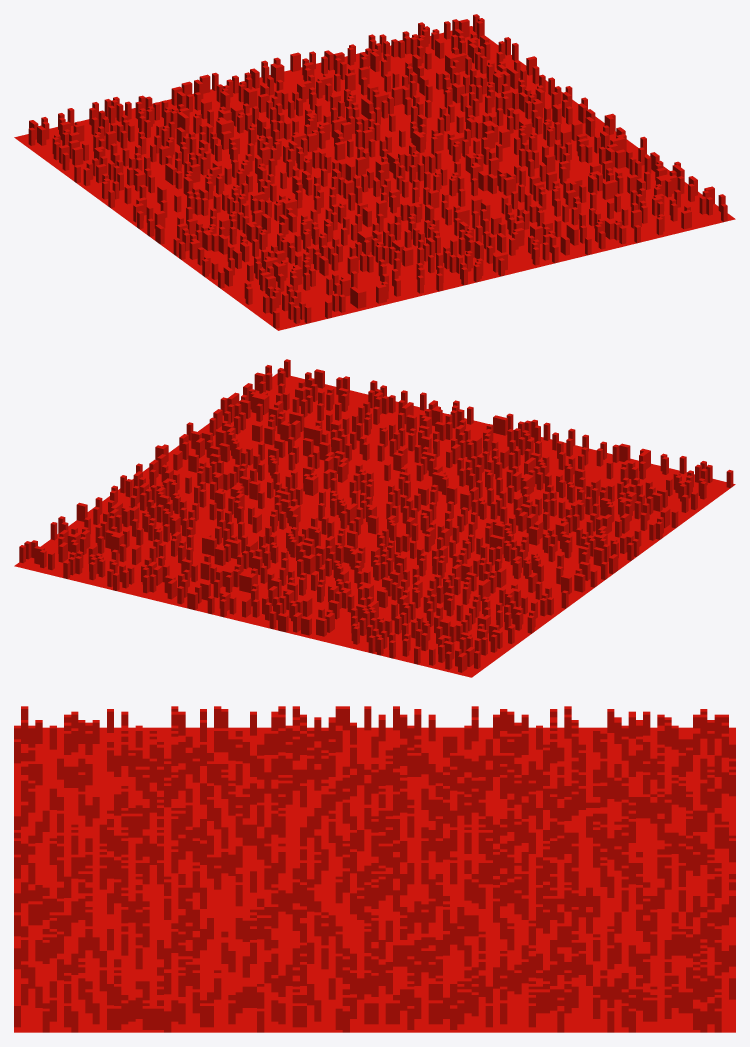
3 views of the same model, one above another, from view 1: azimuth 30°, elevation 25°; view 2: azimuth 150°, elevation 25°; view 3: azimuth 270°, elevation 25° (orthographic). The views are drawn at different scales.
Visible parts, largest first — view 1: Plane; view 2: Plane; view 3: Plane.
Boxes of the visible parts, x1,y1,x2,y2 form: Plane: (14,14,735,330); Plane: (14,359,735,677); Plane: (14,706,735,1032).
Bounding box in the file's own units: 200 × 6.5 × 200.
